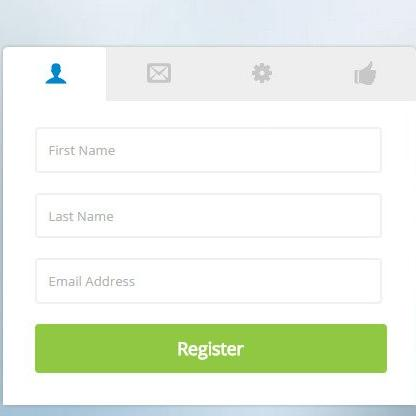button: (32, 322, 388, 374)
field: (32, 256, 383, 306), (33, 125, 383, 175), (34, 191, 383, 240)
